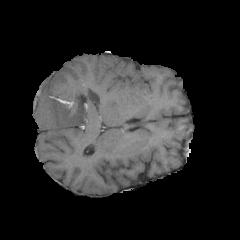glioma: (32, 75, 96, 131)
